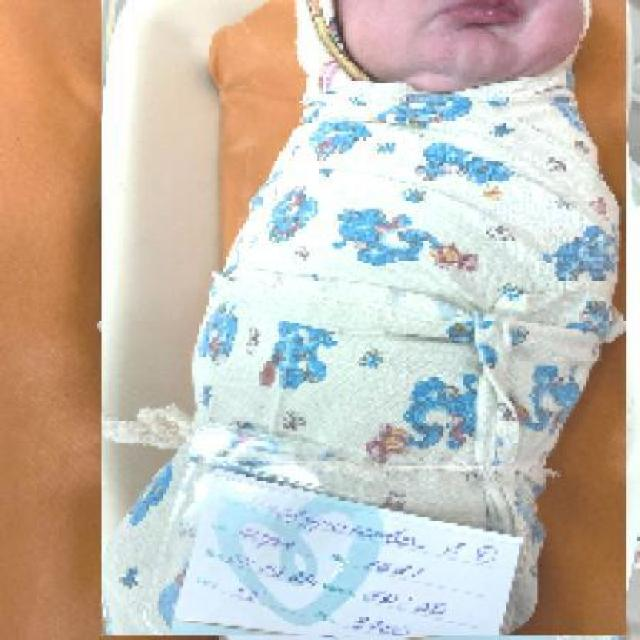child: (100, 0, 626, 637)
